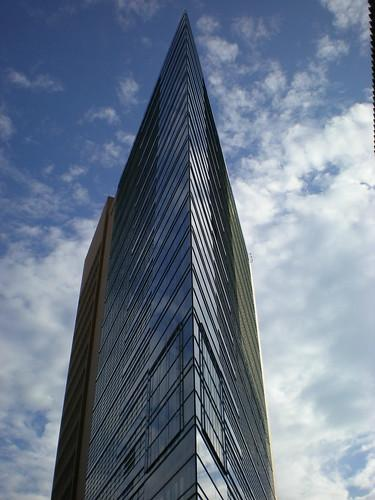building: (46, 10, 275, 500)
